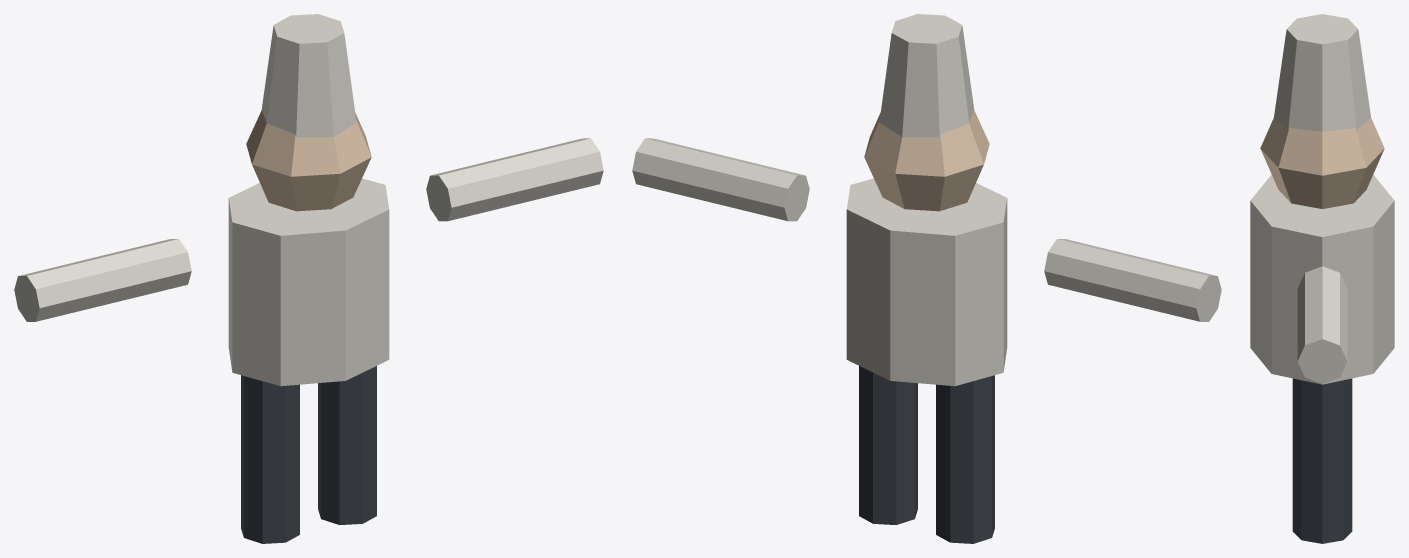
The model's file is cook.glb.
The picture shows the model from 3 angles, left to right: view 1: azimuth 30°, elevation 25°; view 2: azimuth 150°, elevation 25°; view 3: azimuth 270°, elevation 25°; orthographic projection.
Parts seen in each view (by area): view 1: cook; view 2: cook; view 3: cook.
Part boxes in pixels (box(x1,y1,x2,y2)): cook: box(14, 14, 603, 543); cook: box(632, 14, 1221, 543); cook: box(1250, 14, 1394, 543).
Bounding box in the file's own units: 2.03 × 1.7 × 0.459.
